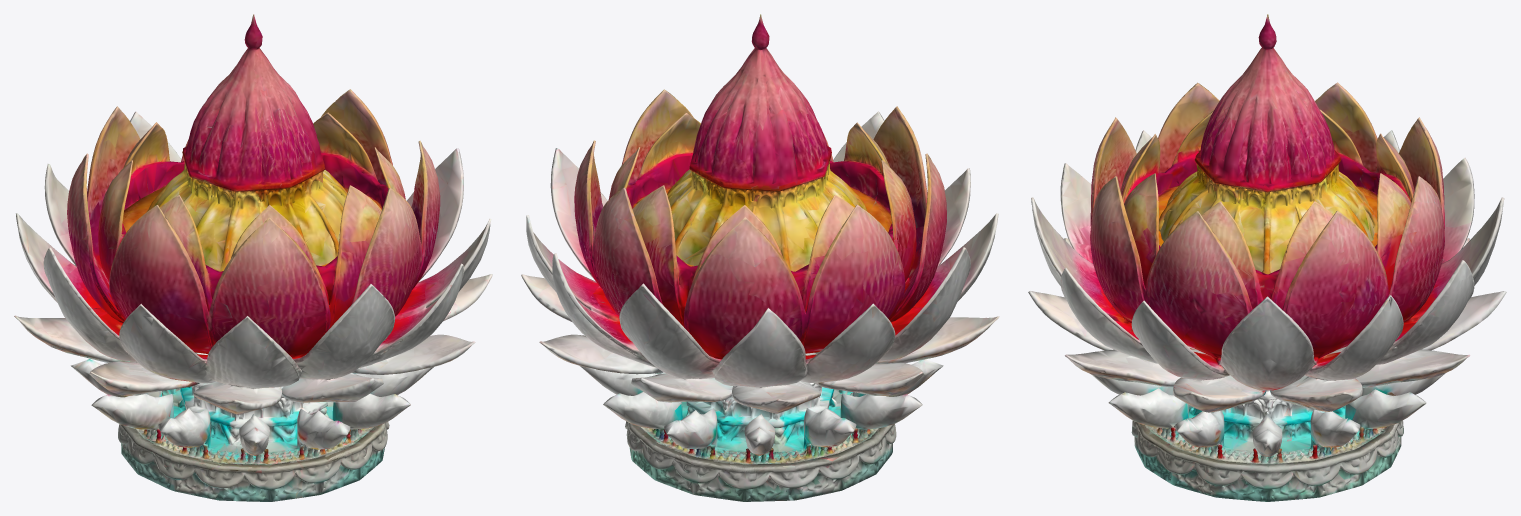
The model's file is A_colossal_floating_c.glb.
3 views of the same model, side by side, from view 1: azimuth 30°, elevation 25°; view 2: azimuth 150°, elevation 25°; view 3: azimuth 270°, elevation 25° (orthographic).
Visible parts, largest first — view 1: A_colossal_floating_c; view 2: A_colossal_floating_c; view 3: A_colossal_floating_c.
Part boxes in pixels (x1,y1,x2,y2): A_colossal_floating_c: (14,14,492,501); A_colossal_floating_c: (521,14,999,501); A_colossal_floating_c: (1028,14,1506,501).
Size of the model in its own units: 1.88 by 1.9 by 1.91.
Materials: 1 (1 with a texture image).
